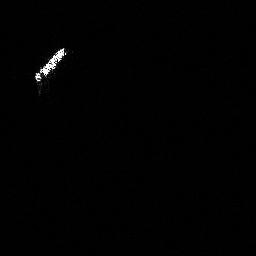ship: (34, 44, 71, 96)
